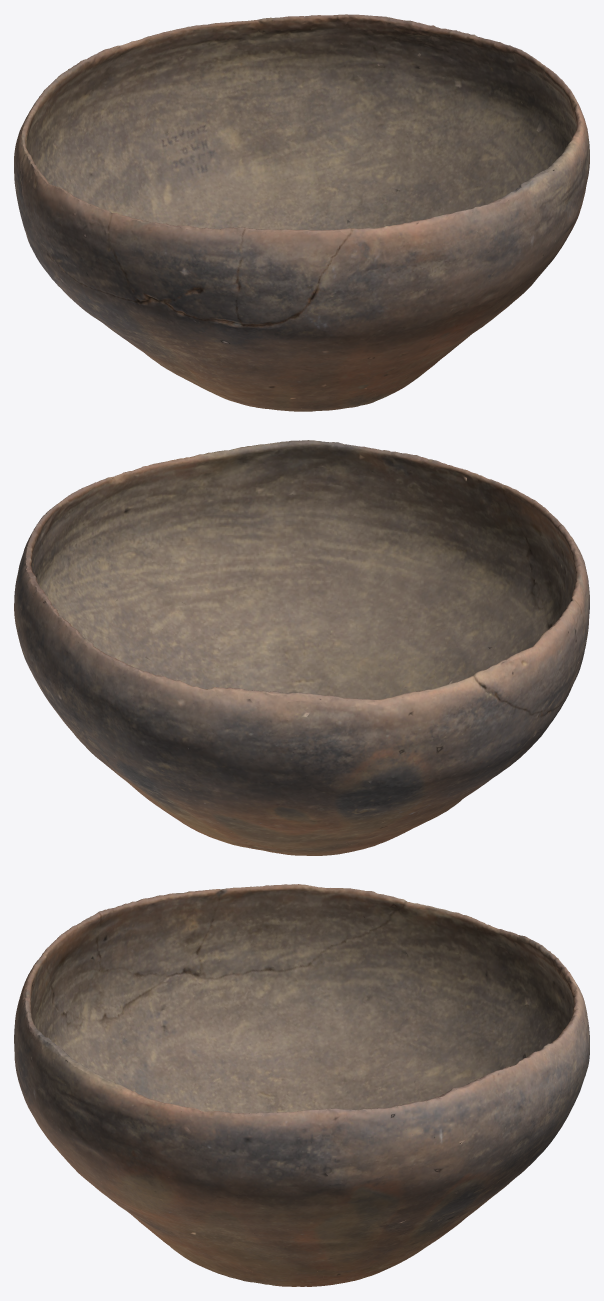
File: obj_pee_dee_bowl_2101p297_bd063f.glb
The picture shows the model from 3 angles, top to bottom: view 1: azimuth 30°, elevation 25°; view 2: azimuth 150°, elevation 25°; view 3: azimuth 270°, elevation 25°; orthographic projection.
Parts seen in each view (by area): view 1: obj_pee_dee_bowl_2101p297_bd063f; view 2: obj_pee_dee_bowl_2101p297_bd063f; view 3: obj_pee_dee_bowl_2101p297_bd063f.
Boxes of the visible parts, left/top/right/bottom form: obj_pee_dee_bowl_2101p297_bd063f: left=14, top=14, right=589, bottom=411; obj_pee_dee_bowl_2101p297_bd063f: left=14, top=440, right=589, bottom=855; obj_pee_dee_bowl_2101p297_bd063f: left=14, top=884, right=589, bottom=1286.
Bounding box in the file's own units: 0.6 × 0.3005 × 0.5908.
1 material, 1 textured.
